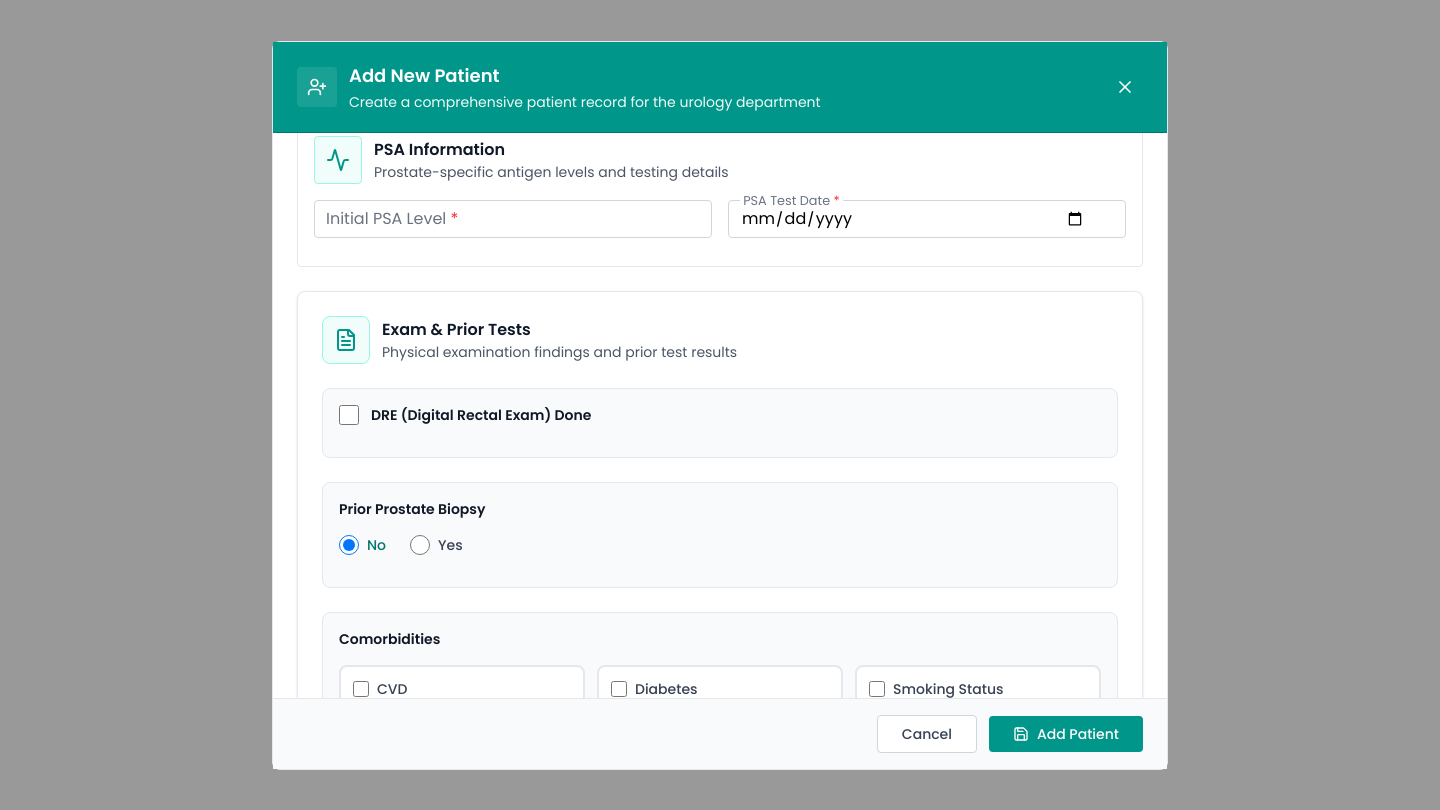
it: AddPatientModal › DRE Findings › should show DRE findings when DRE is done
The width and height of the screenshot is (1440, 810).
(page scrolled)
Click the checkbox labelled "DRE (Digital Rectal Exam) Done".
click(349, 415)  # box [339, 405, 359, 425]
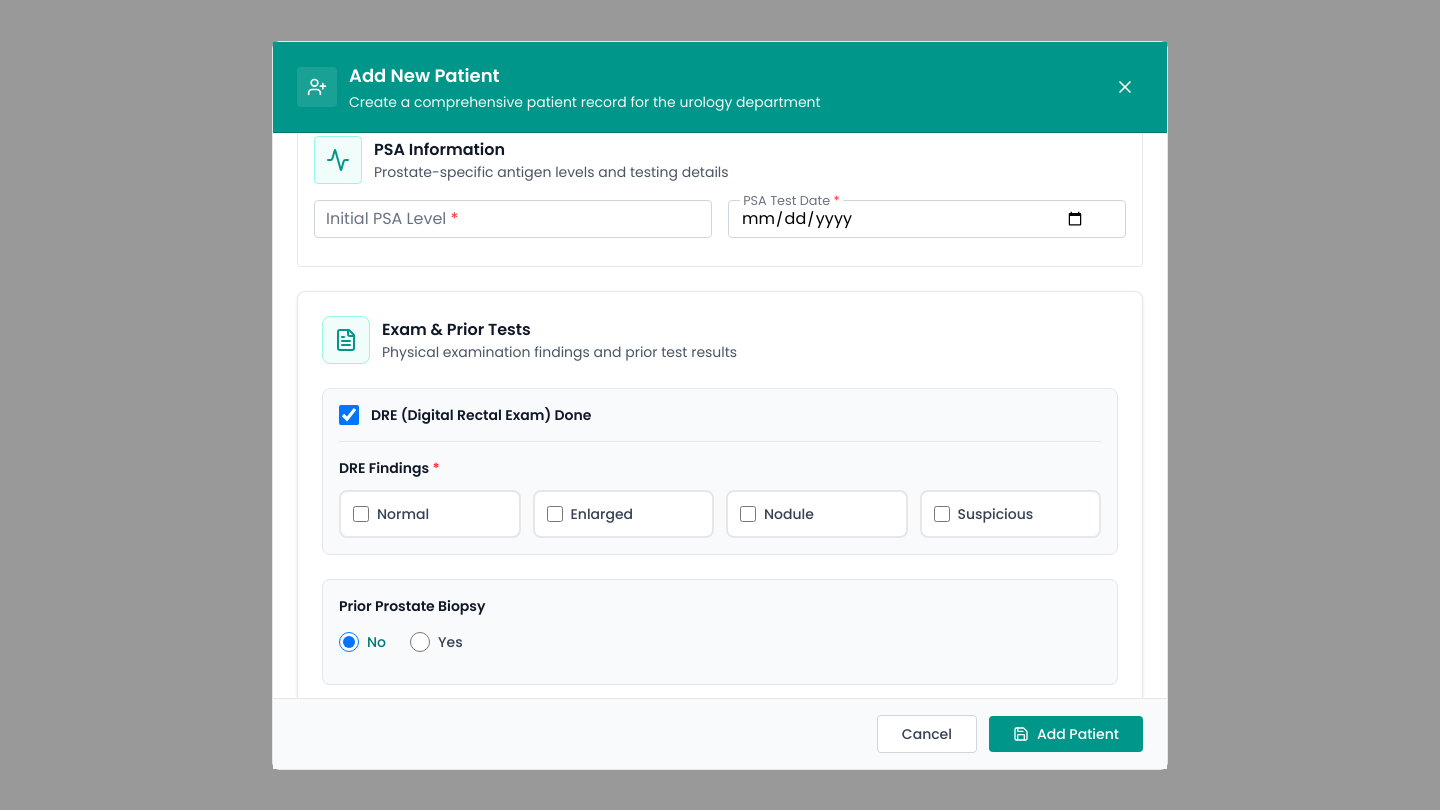
Expected: the checkbox labelled "Normal" is shown, [353, 506, 369, 522]
Expected: the text "DRE Findings *" is shown, [339, 458, 440, 478]
